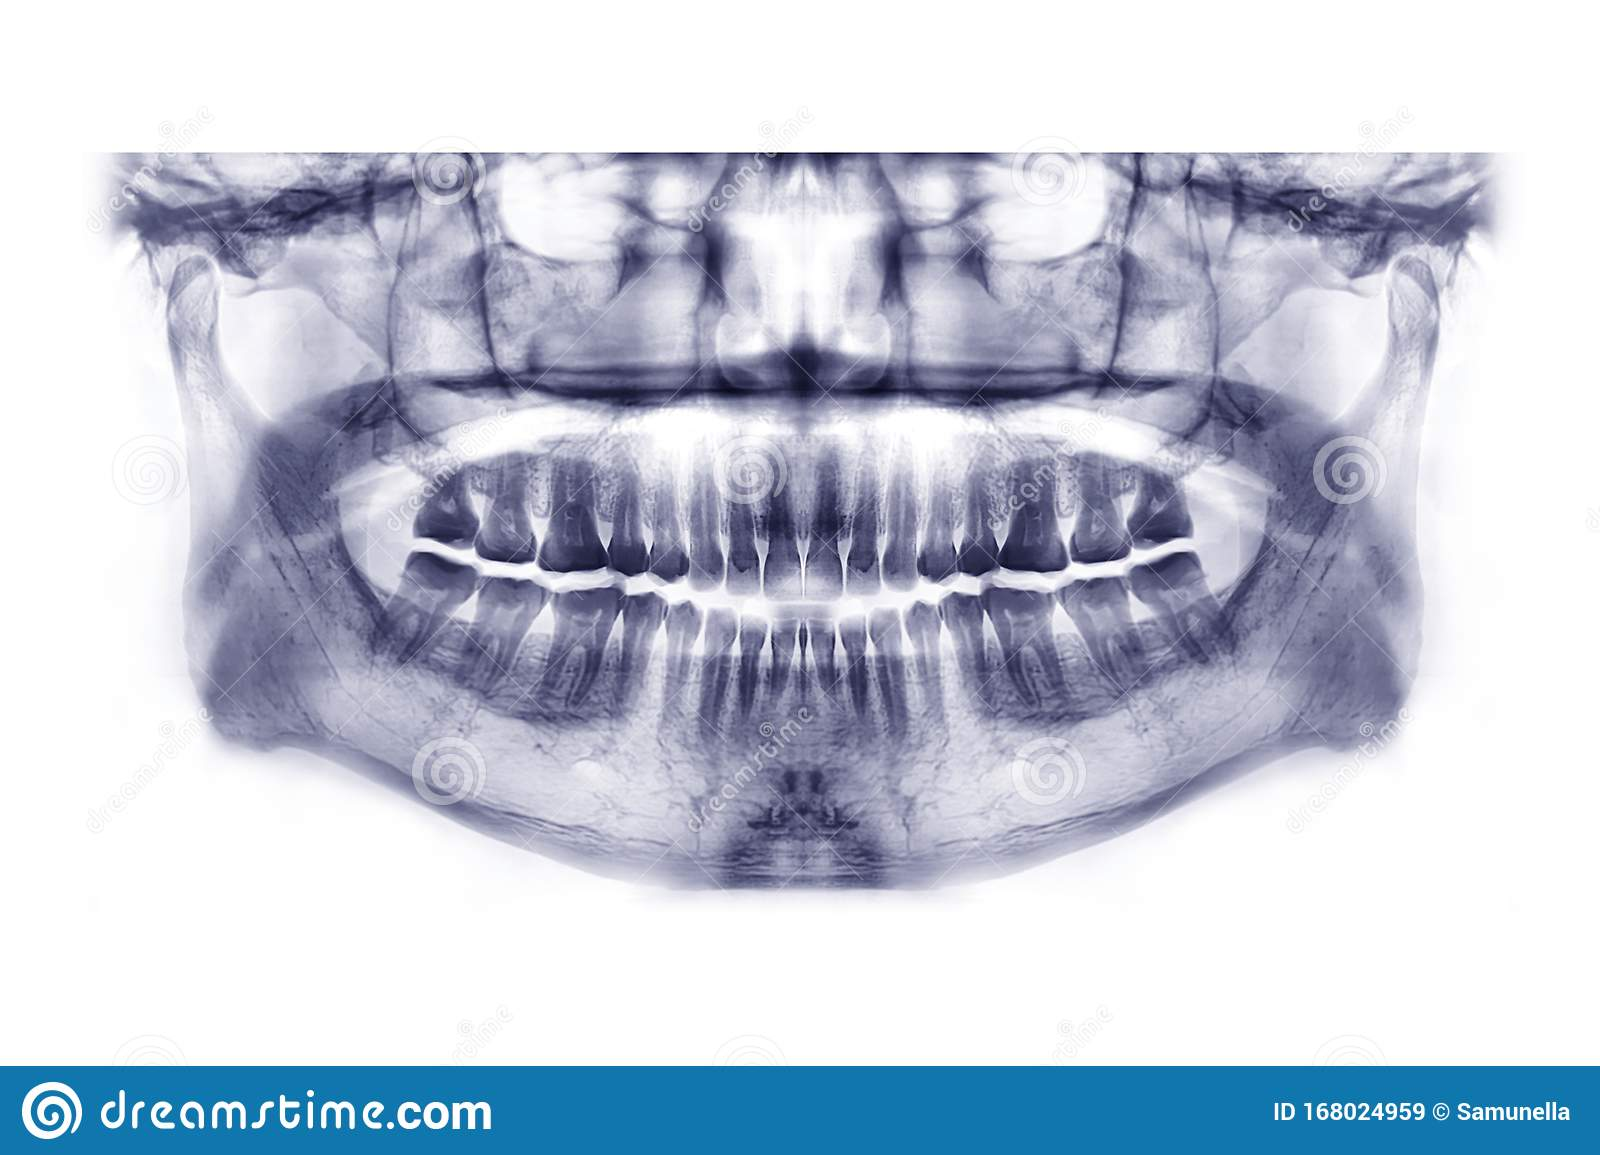canine: (883, 397, 925, 604), (866, 599, 916, 754), (683, 420, 727, 596), (701, 604, 740, 758)
incisor: (848, 395, 889, 609), (801, 433, 846, 611), (724, 441, 766, 610), (761, 447, 805, 609), (732, 604, 776, 743), (834, 605, 875, 753), (764, 612, 802, 746), (802, 615, 842, 728)
molar: (1112, 548, 1239, 669), (448, 565, 557, 702), (978, 576, 1080, 717), (380, 538, 484, 668), (1055, 574, 1160, 693), (540, 419, 617, 575), (995, 422, 1071, 576), (540, 582, 629, 705), (471, 415, 540, 569), (1053, 435, 1137, 561), (401, 433, 488, 546), (1119, 433, 1198, 554)
premolar: (912, 409, 963, 587), (894, 592, 950, 740), (600, 433, 656, 580), (657, 587, 707, 738), (645, 437, 692, 591), (617, 582, 667, 725), (958, 431, 1002, 584), (939, 591, 989, 728)
